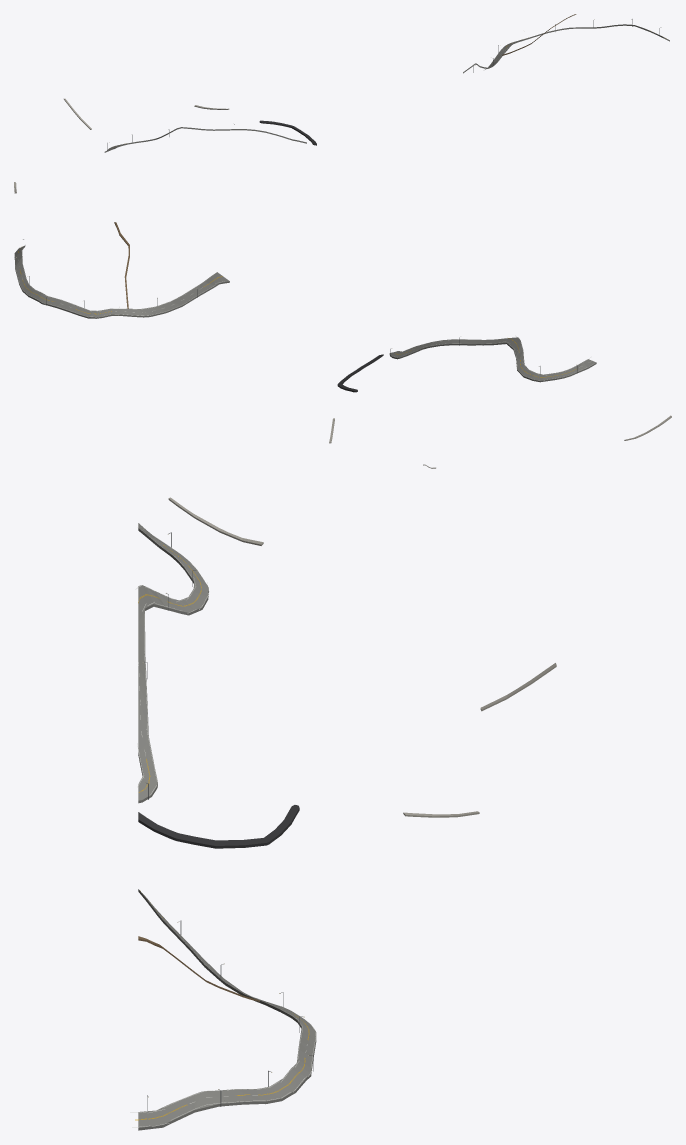
3 renders of one model, top to bottom at view 1: azimuth 30°, elevation 25°; view 2: azimuth 150°, elevation 25°; view 3: azimuth 270°, elevation 25°, orthographic. The views are drawn at different scales.
Size of the model in its own units: 623 by 75.66 by 178.
